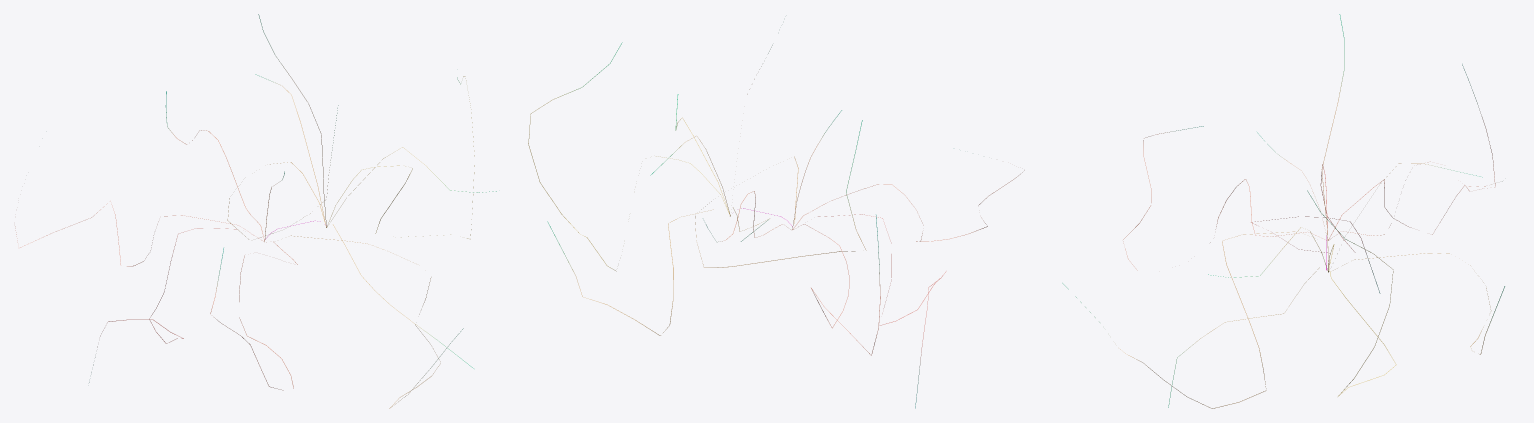
Rendered from TazerLightning.fbx.
3 renders of one model, left to right at view 1: azimuth 30°, elevation 25°; view 2: azimuth 150°, elevation 25°; view 3: azimuth 270°, elevation 25°, orthographic. The views are drawn at different scales.
Parts seen in each view (by area): view 1: tazer lightning curves; view 2: tazer lightning curves; view 3: tazer lightning curves.
Boxes of the visible parts, <box> form: tazer lightning curves: <box>15,14,496,408</box>; tazer lightning curves: <box>528,42,1024,408</box>; tazer lightning curves: <box>1062,14,1504,408</box>.
Size of the model in its own units: 17.38 by 14.29 by 17.02.
